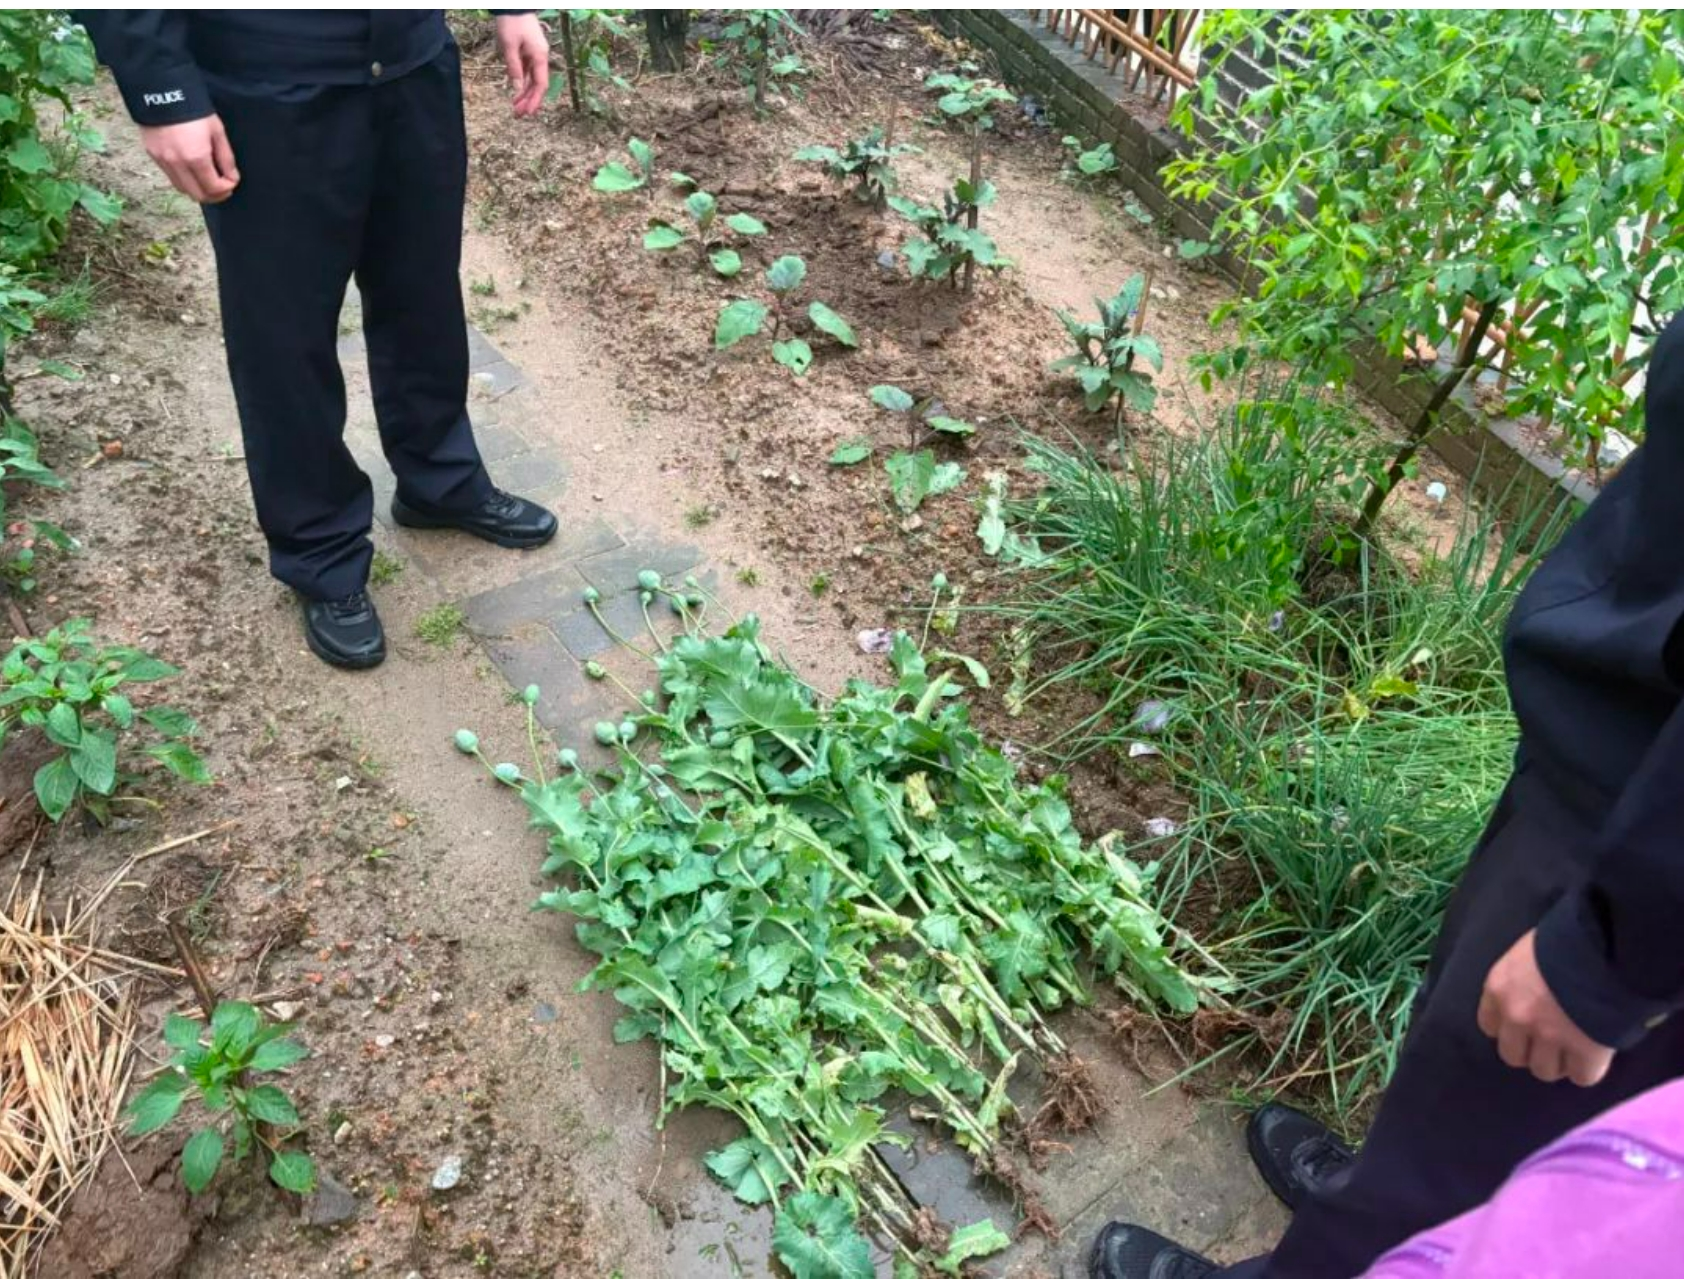Poppy: (436, 551, 1248, 1248)
